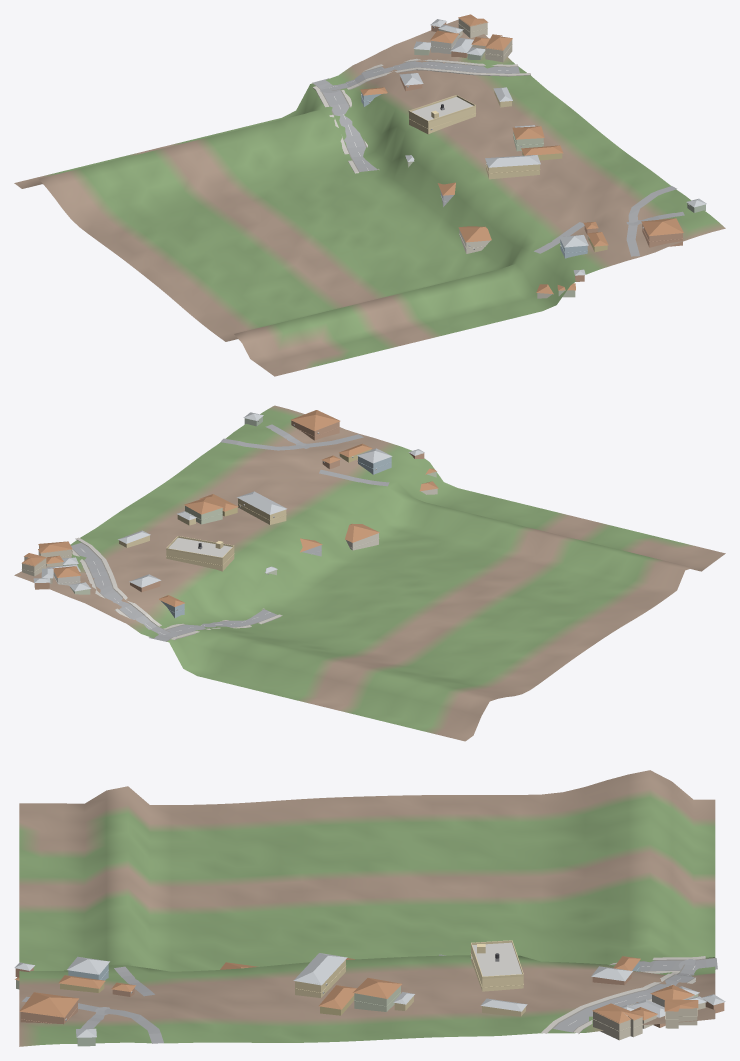
3 renders of one model, top to bottom at view 1: azimuth 30°, elevation 25°; view 2: azimuth 150°, elevation 25°; view 3: azimuth 270°, elevation 25°, orthographic. The views are drawn at different scales.
Parts seen in each view (by area): view 1: Terrain-col, Buildings-col, Roads-col, Sidewalks-col, Details; view 2: Terrain-col, Buildings-col, Roads-col, Sidewalks-col, Details; view 3: Terrain-col, Buildings-col, Roads-col, Sidewalks-col, Details.
Boxes of the visible parts, box(x1,y1,x2,y2) form: Terrain-col: box(14, 19, 725, 376); Buildings-col: box(360, 14, 706, 298); Roads-col: box(312, 61, 684, 256); Sidewalks-col: box(312, 58, 530, 173); Details: box(361, 23, 689, 253); Terrain-col: box(14, 405, 725, 741); Buildings-col: box(21, 410, 438, 618); Roads-col: box(71, 424, 389, 641); Sidewalks-col: box(72, 537, 282, 640); Details: box(21, 420, 391, 612); Terrain-col: box(19, 770, 715, 1046); Buildings-col: box(14, 942, 725, 1046); Roads-col: box(22, 958, 717, 1043); Sidewalks-col: box(541, 956, 705, 1033); Details: box(20, 940, 697, 1031).
Size of the model in its own units: 263 by 37.27 by 262.
